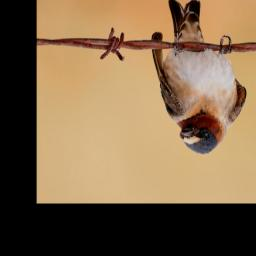Swallow: (151, 0, 248, 155)
